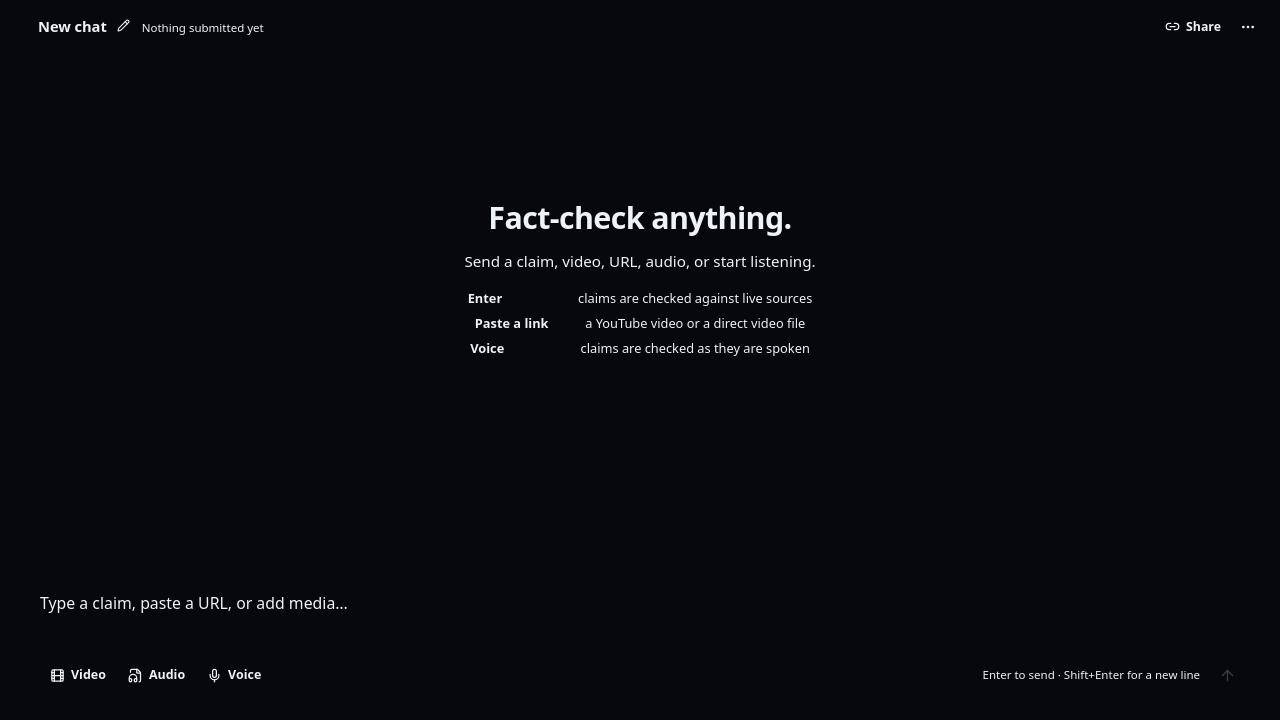
Test: the conversation › shows the reader their own message, then the answer
This screenshot has width=1280, height=720.
(page scrolled)
Type "India won the 2011 Cricket World Cup." into the text box at (642,617), box [40,589,1244,644]
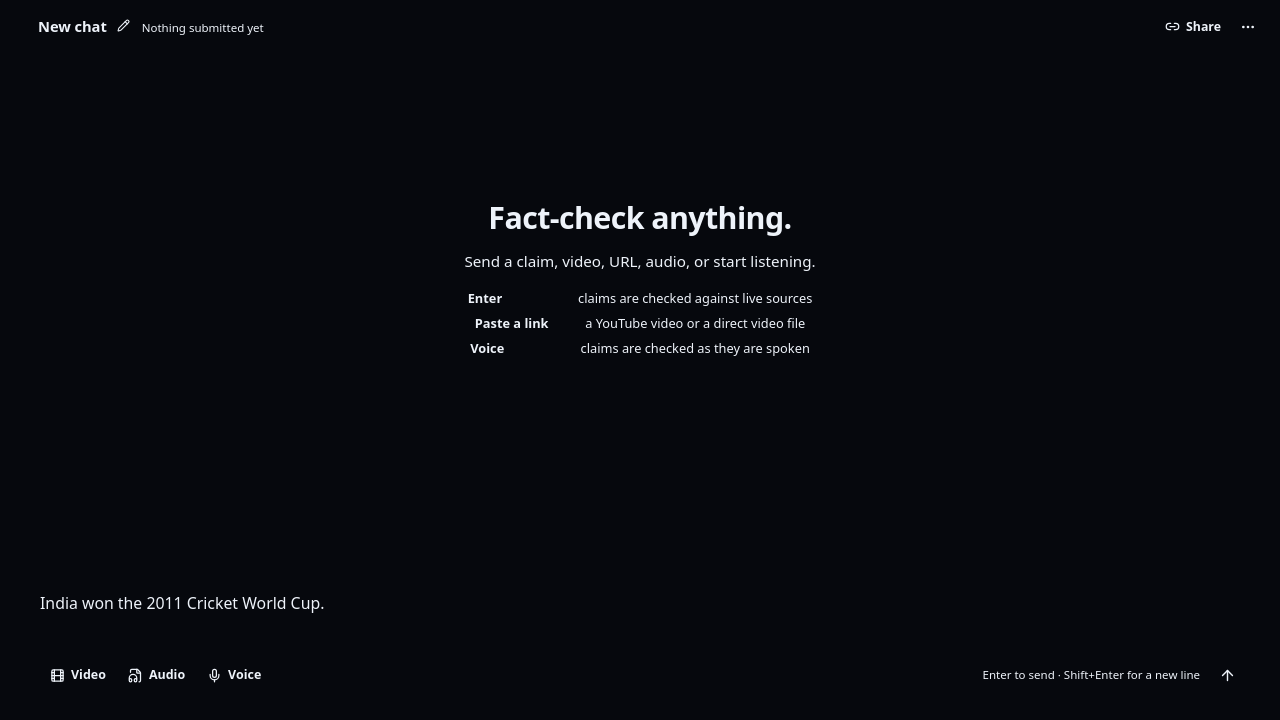
Click the button named "send" at (1227,675), box [1210,658,1244,692]
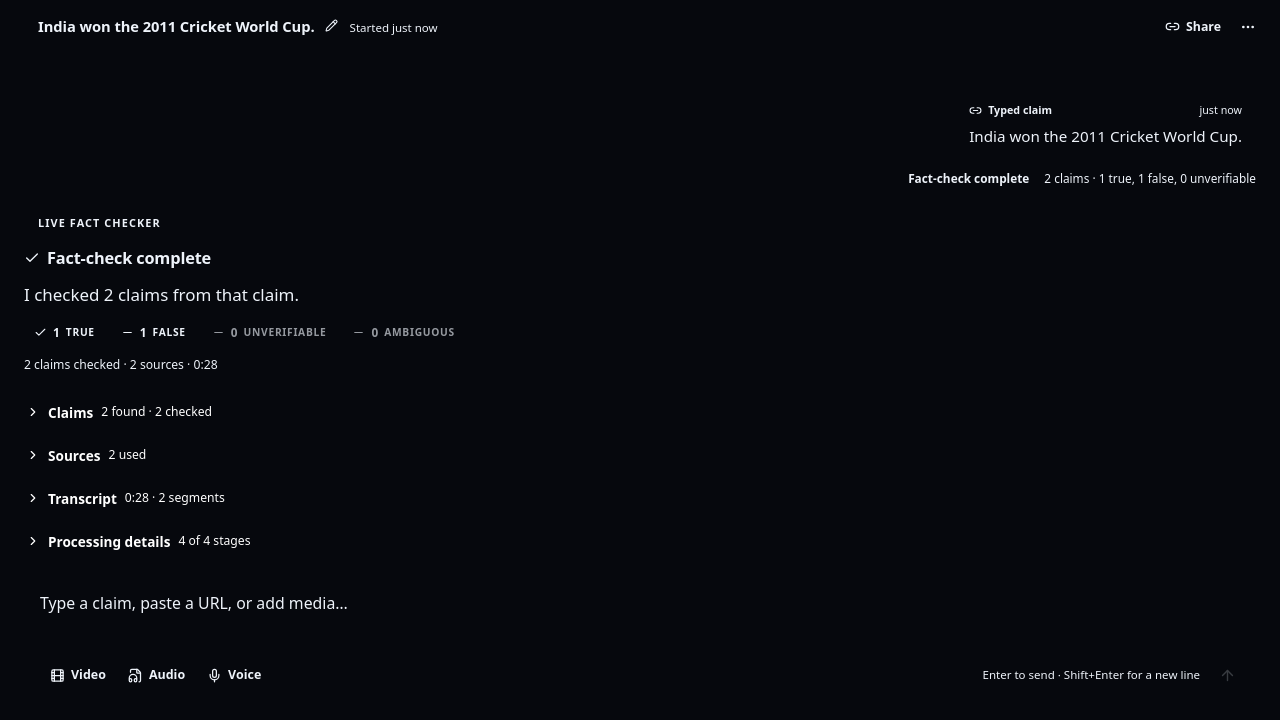
Now the text "India won the 2011 Cricket World Cup." is shown, box [969,124,1242,148]
Now the text "Live Fact Checker" is shown, box [38,215,161,230]
Now the heading "Fact-check complete" is shown, box [24,247,211,269]
